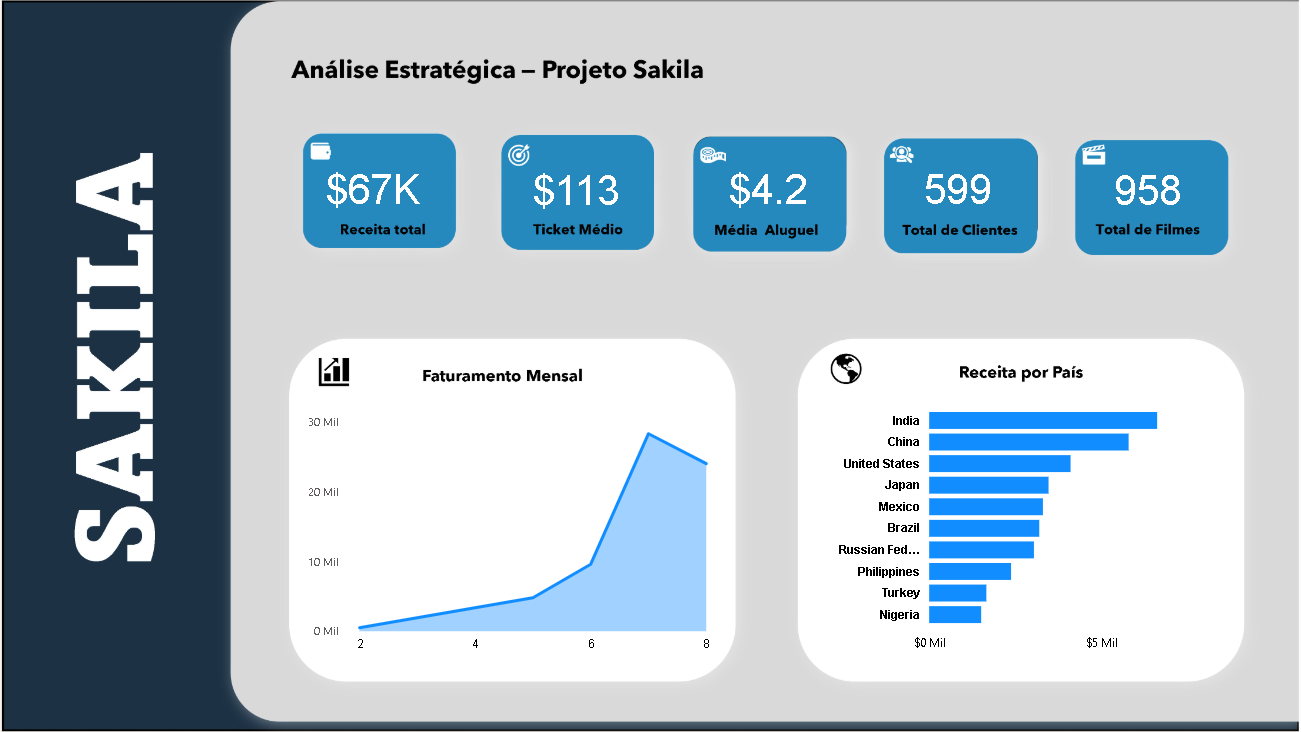

What the dashboard file says about the page in this screenshot:
{"tool":"powerbi","page":{"name":"Página 1","canvas":[1280,720],"ordinal":0},"visuals":[{"type":"advanceCardE03760C5AB684758B56AA29F9E6C257B","fields":{"mainMeasure":["Sum(sakila vw_ticket_medio_por_cliente.ticket_medio_cliente)"]},"box":[501.6,131.9,112.9,114.9],"z":0},{"type":"advanceCardE03760C5AB684758B56AA29F9E6C257B","fields":{"mainMeasure":["Sum(sakila vw_media_valor_aluguel.media_valor_por_aluguel)"]},"box":[684.5,131.9,119.9,113.9],"z":1000},{"type":"advanceCardE03760C5AB684758B56AA29F9E6C257B","fields":{"mainMeasure":["Count(sakila vw_clientes_mais_gastam.customer_id)"]},"box":[858.3,131.9,142.9,113.9],"z":2000},{"type":"lineChart","fields":{"Y":["Sum(sakila vw_faturamento_mensal.Vendas_por_mes)"],"Category":["sakila vw_faturamento_mensal.numero_mes"]},"box":[291.7,400.4,408.2,246.2],"z":3000},{"type":"barChart","fields":{"Category":["sakila vw_receita_por_pais.country"],"Y":["Sum(sakila vw_receita_por_pais.total_receitas)"]},"box":[789.2,383.6,401.6,263.4],"z":4000},{"type":"advanceCardE03760C5AB684758B56AA29F9E6C257B","fields":{"mainMeasure":["Sum(sakila vw_receita_por_pais.total_receitas)"]},"box":[291.8,131.9,137.9,113.9],"z":5000},{"type":"advanceCardE03760C5AB684758B56AA29F9E6C257B","fields":{"mainMeasure":["Count(sakila vw_receita_filmes.title)"]},"box":[1040.2,131.9,149.9,115.9],"z":6000}]}

Visuals, with their boxes in screenshot pixels (x1, y1, x2, y2), scaled from the page's 1280x720 canvas onto the 1301x732 screenshot:
advanceCardE03760C5AB684758B56AA29F9E6C257B - Sum(sakila vw_ticket_medio_por_cliente.ticket_medio_cliente): box(510, 134, 625, 251)
advanceCardE03760C5AB684758B56AA29F9E6C257B - Sum(sakila vw_media_valor_aluguel.media_valor_por_aluguel): box(696, 134, 818, 250)
advanceCardE03760C5AB684758B56AA29F9E6C257B - Count(sakila vw_clientes_mais_gastam.customer_id): box(872, 134, 1018, 250)
lineChart - Sum(sakila vw_faturamento_mensal.Vendas_por_mes) x sakila vw_faturamento_mensal.numero_mes: box(296, 407, 711, 657)
barChart - sakila vw_receita_por_pais.country x Sum(sakila vw_receita_por_pais.total_receitas): box(802, 390, 1210, 658)
advanceCardE03760C5AB684758B56AA29F9E6C257B - Sum(sakila vw_receita_por_pais.total_receitas): box(297, 134, 437, 250)
advanceCardE03760C5AB684758B56AA29F9E6C257B - Count(sakila vw_receita_filmes.title): box(1057, 134, 1210, 252)
